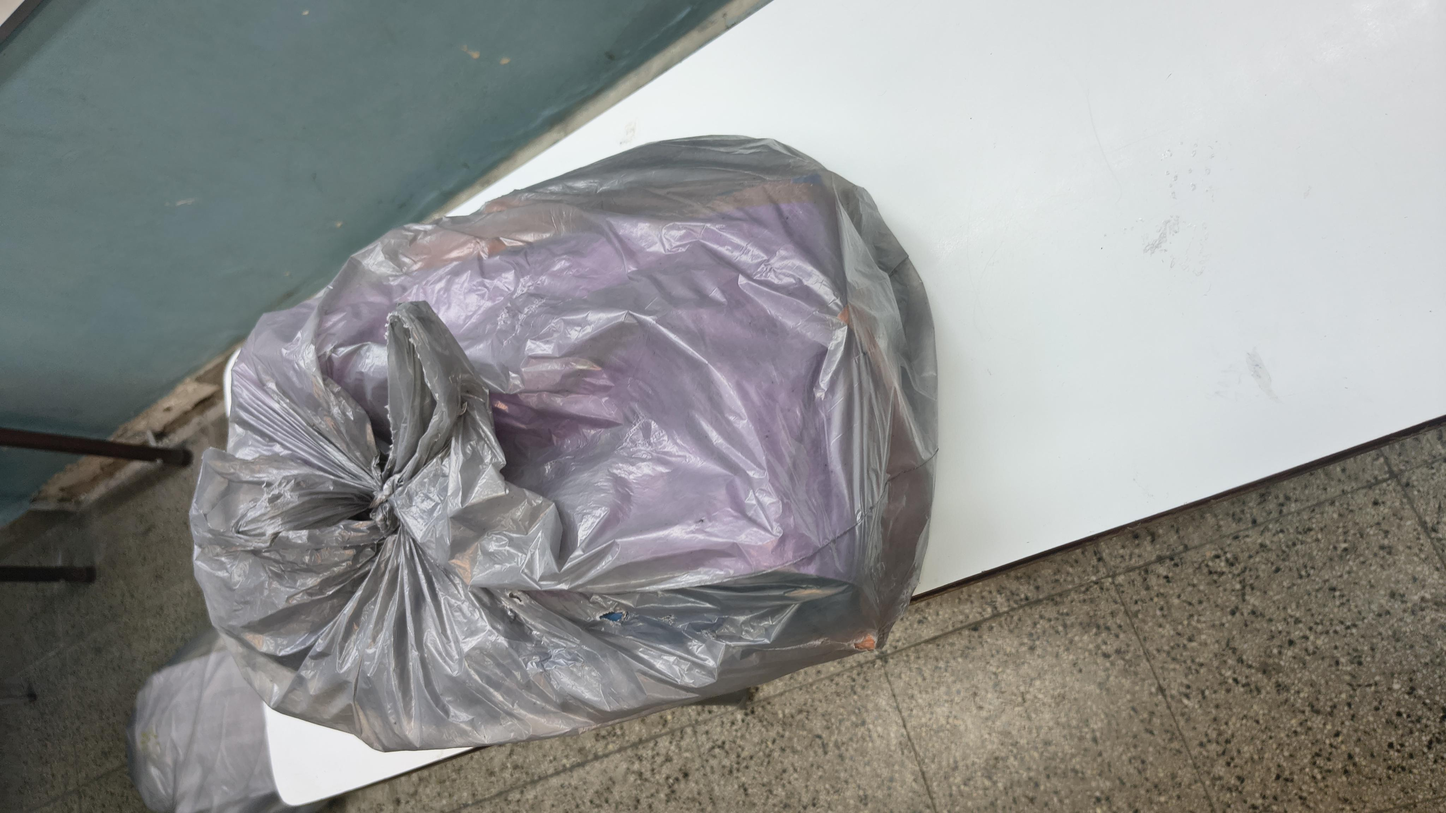Garbage: (63, 95, 1243, 526)
